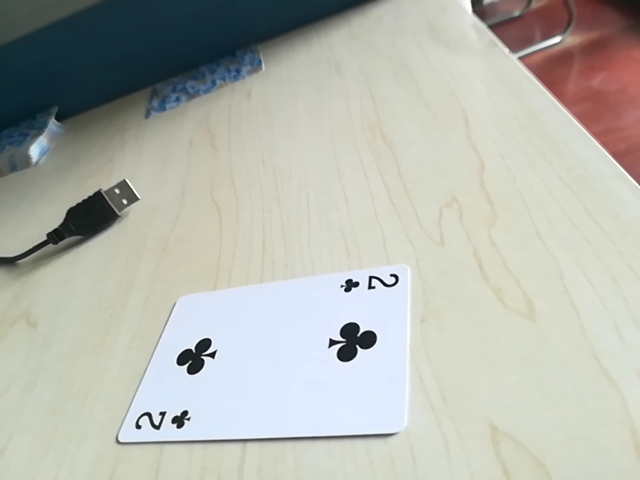mh 2: (126, 405, 196, 440), (338, 267, 403, 296)
